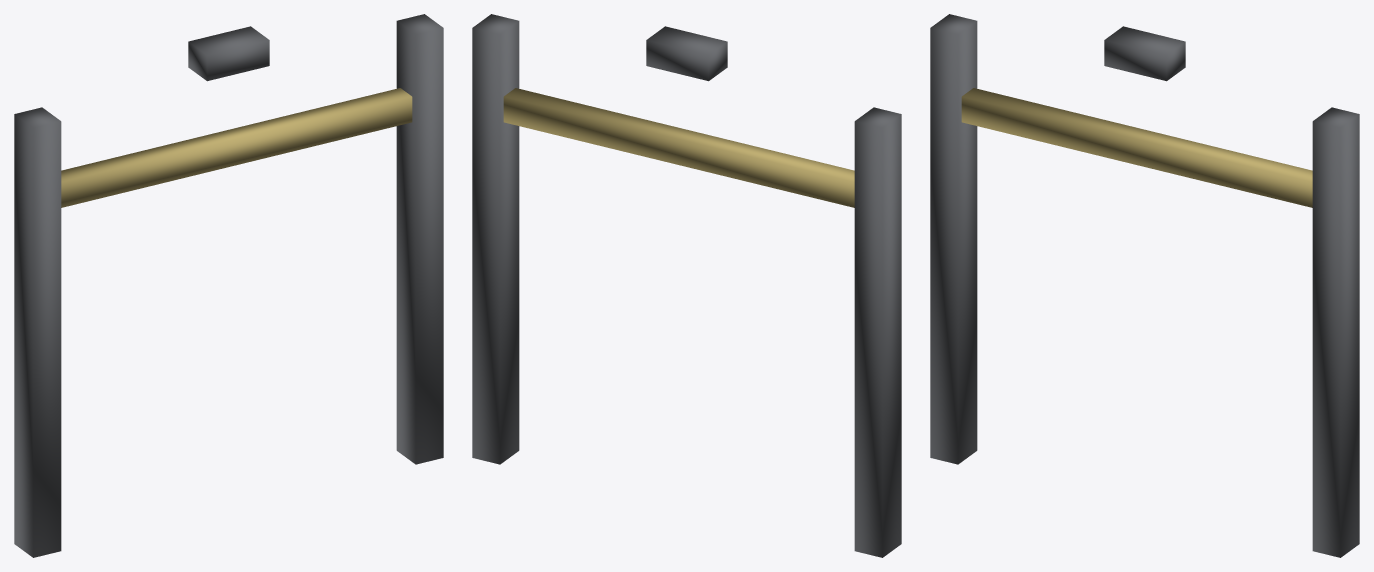
File: queue_gate_09.glb
The picture shows the model from 3 angles, left to right: view 1: azimuth 30°, elevation 25°; view 2: azimuth 150°, elevation 25°; view 3: azimuth 330°, elevation 25°; orthographic projection.
Visible parts, largest first — view 1: world; view 2: world; view 3: world.
Part boxes in pixels (x1,y1,x2,y2): world: (14,14,443,557); world: (472,14,901,557); world: (930,14,1359,557).
Bounding box in the file's own units: 1.04 × 1.11 × 0.0832.
